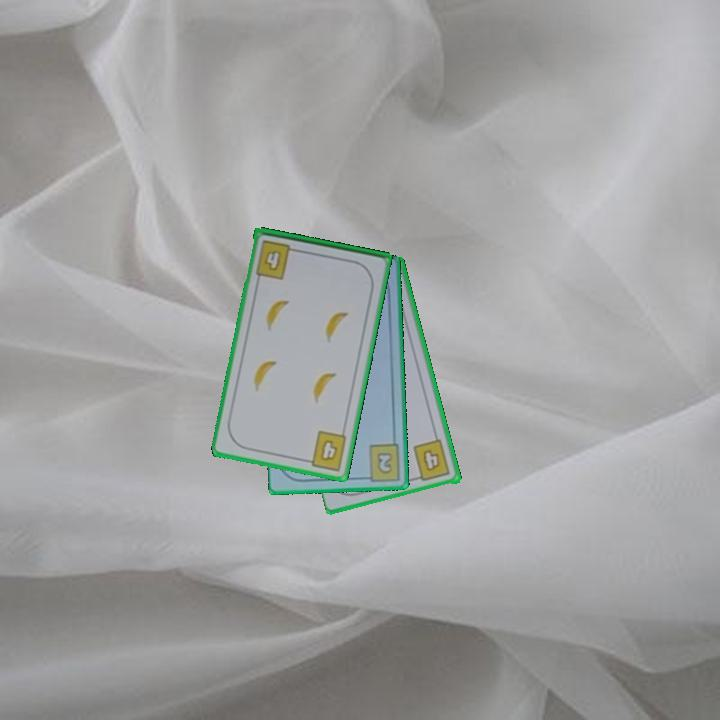2b: (359, 441, 403, 483)
4b: (301, 427, 350, 474), (252, 237, 301, 282), (410, 436, 453, 484)
